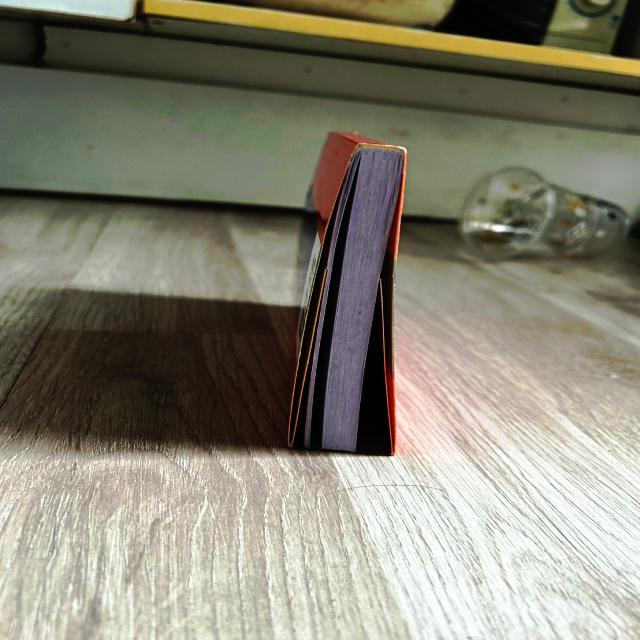Book: (288, 138, 404, 459)
